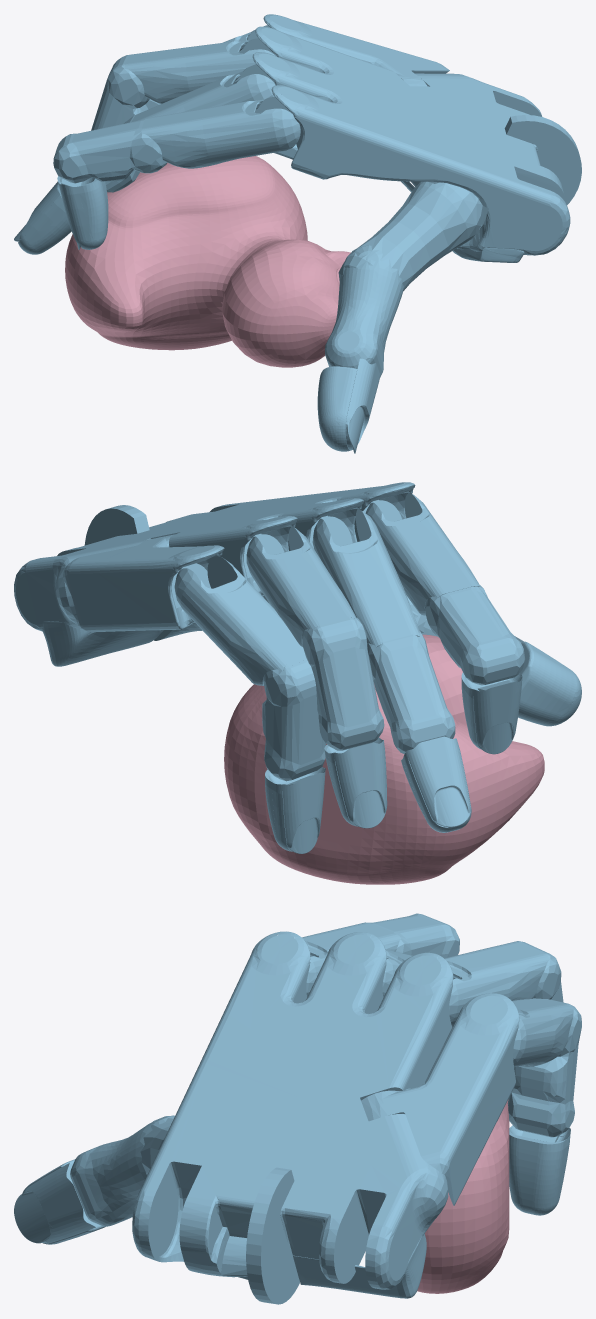
3 views of the same model, one above another, from view 1: azimuth 30°, elevation 25°; view 2: azimuth 150°, elevation 25°; view 3: azimuth 270°, elevation 25° (orthographic). The views are drawn at different scales.
Visible parts, largest first — view 1: world; view 2: world; view 3: world.
Part boxes in pixels (x1,y1,x2,y2): world: (14, 14, 581, 453); world: (14, 482, 581, 884); world: (14, 913, 581, 1304).
Size of the model in its own units: 0.1811 by 0.1113 by 0.1613.
